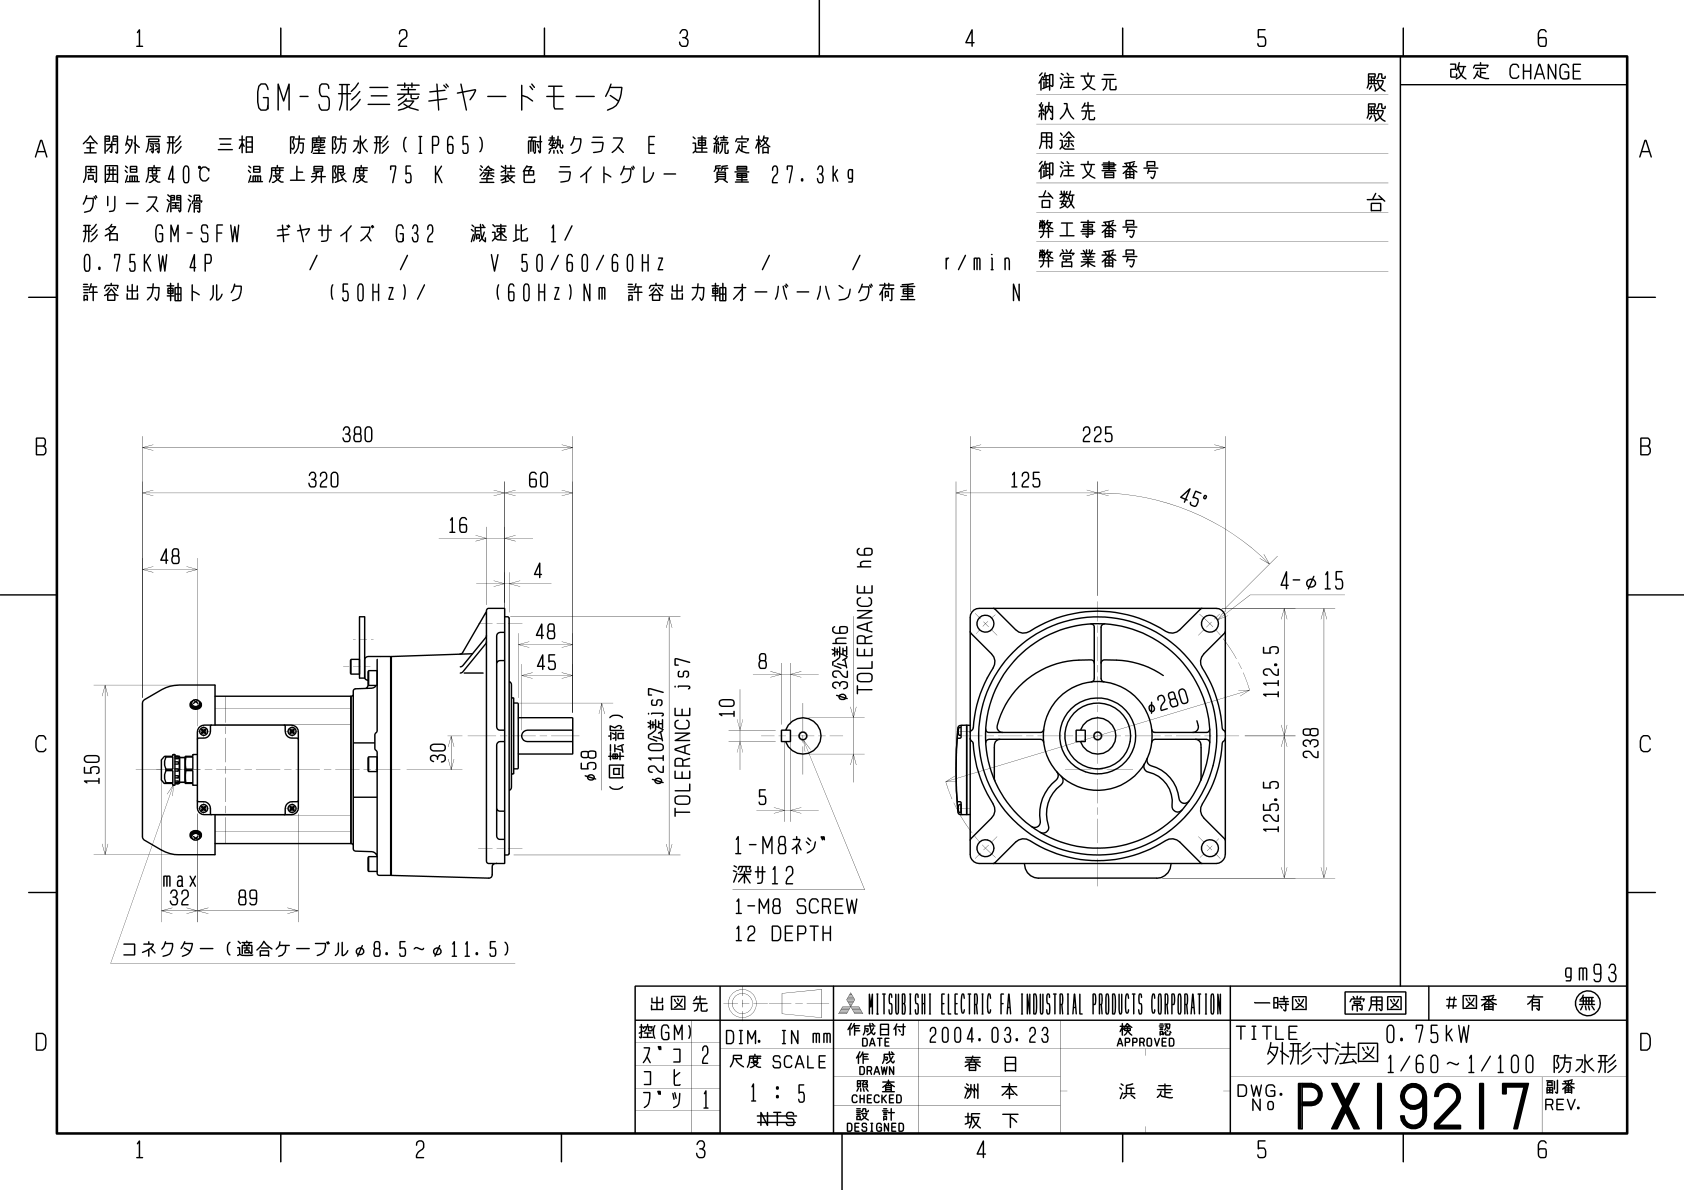GM_S_IP65＿三相_フランジ: (73, 384, 1372, 980)
